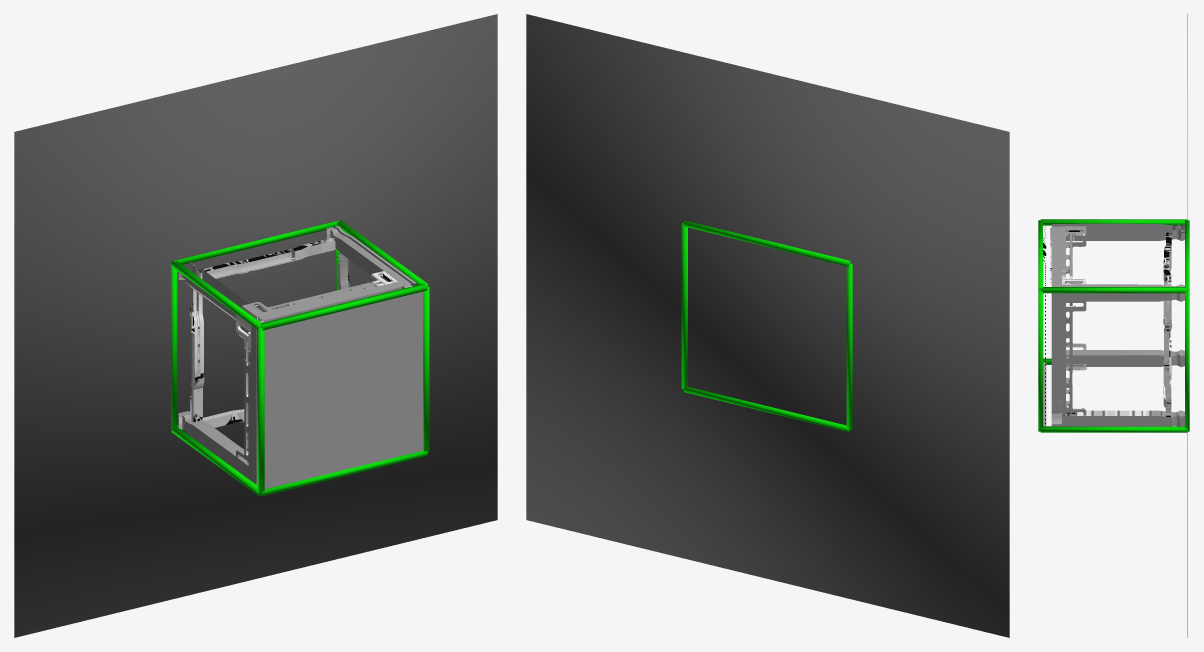
The picture shows the model from 3 angles, left to right: view 1: azimuth 30°, elevation 25°; view 2: azimuth 150°, elevation 25°; view 3: azimuth 270°, elevation 25°; orthographic projection. The views are drawn at different scales.
Bounding box in the file's own units: 2 × 2 × 0.6458.
